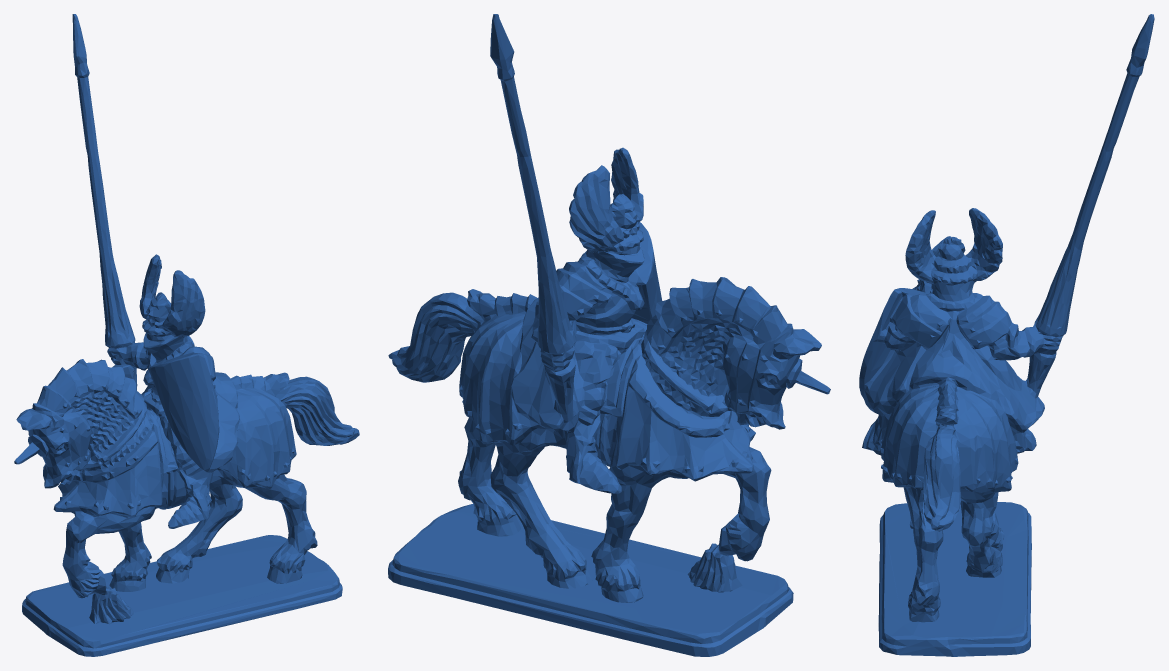
Rendered from lord_knights.glb.
The picture shows the model from 3 angles, left to right: view 1: azimuth 30°, elevation 25°; view 2: azimuth 150°, elevation 25°; view 3: azimuth 270°, elevation 25°; orthographic projection. The views are drawn at different scales.
Visible parts, largest first — view 1: Lord_Knights_Solid_Imperial_Army; view 2: Lord_Knights_Solid_Imperial_Army; view 3: Lord_Knights_Solid_Imperial_Army.
Part boxes in pixels (box(x1,y1,x2,y2)): Lord_Knights_Solid_Imperial_Army: box(14, 14, 359, 656); Lord_Knights_Solid_Imperial_Army: box(388, 14, 830, 656); Lord_Knights_Solid_Imperial_Army: box(859, 14, 1154, 656).
Bounding box in the file's own units: 35.07 × 50.73 × 24.12.
